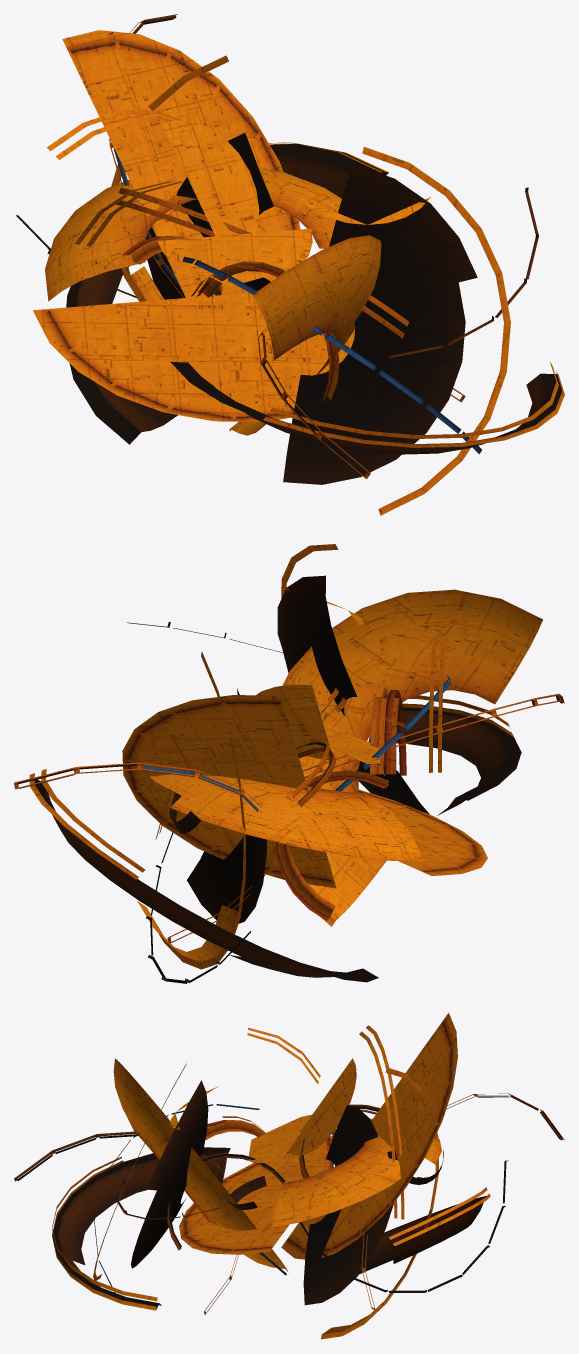
Rendered from MonsterB_Die13.obj.
The picture shows the model from 3 angles, top to bottom: view 1: azimuth 30°, elevation 25°; view 2: azimuth 150°, elevation 25°; view 3: azimuth 270°, elevation 25°; orthographic projection. The views are drawn at different scales.
Visible parts, largest first — view 1: Sphere001; view 2: Sphere001; view 3: Sphere001.
Part boxes in pixels (box(x1,y1,x2,y2)): Sphere001: box(16, 14, 564, 515); Sphere001: box(14, 544, 564, 983); Sphere001: box(14, 1012, 564, 1339).
Bounding box in the file's own units: 236 × 193 × 376.
1 material, 1 textured.
